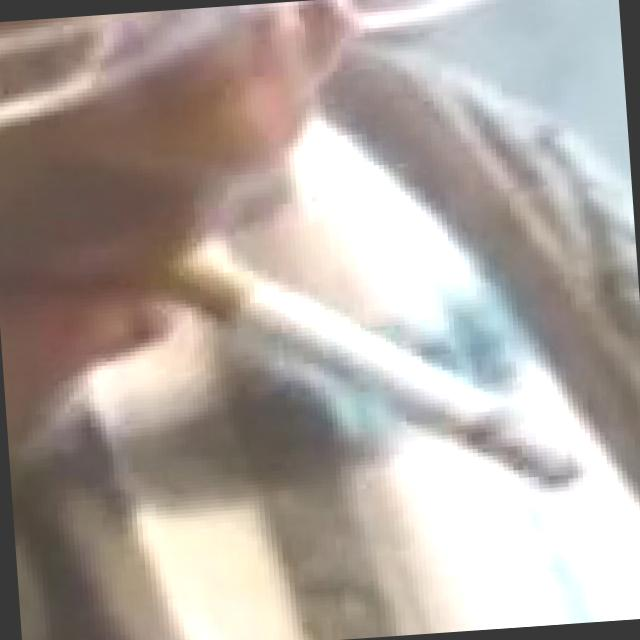smoke: (145, 171, 599, 538)
